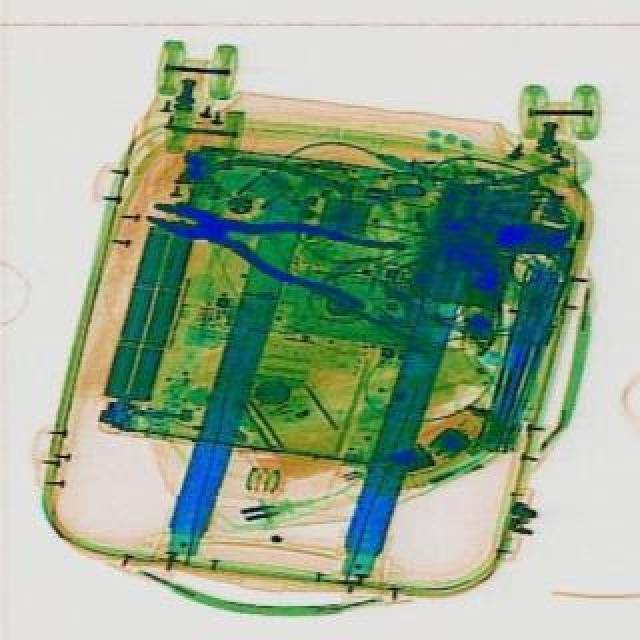wrench: (134, 174, 408, 316)
